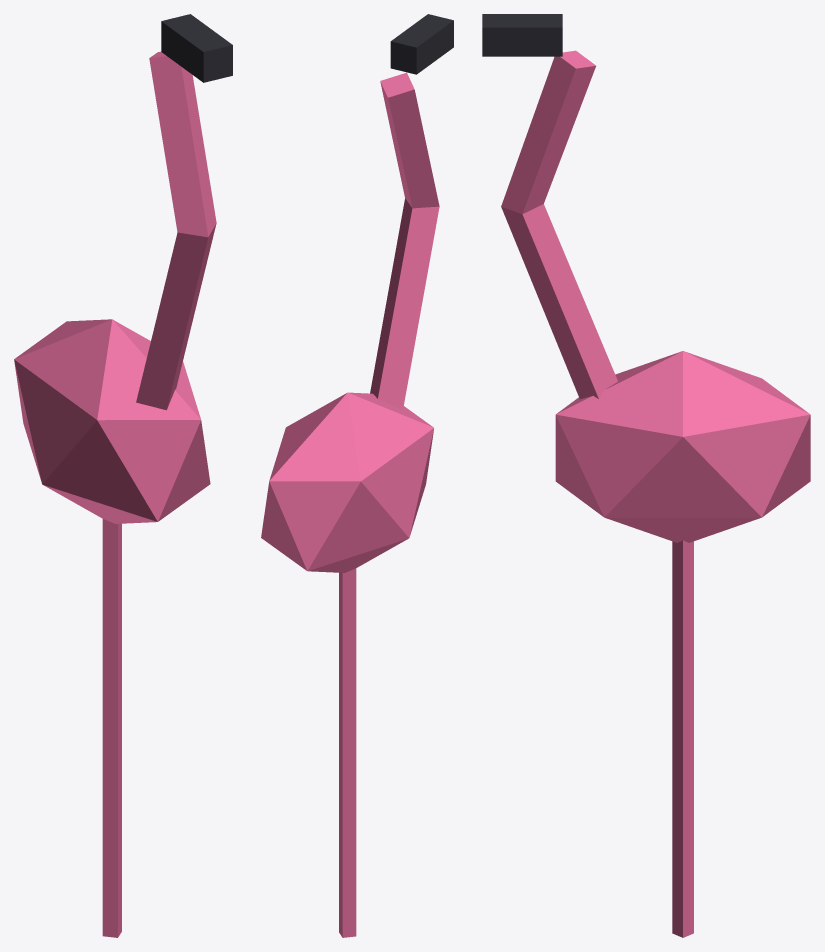
Rendered from flamingo.glb.
3 renders of one model, left to right at view 1: azimuth 30°, elevation 25°; view 2: azimuth 150°, elevation 25°; view 3: azimuth 270°, elevation 25°, orthographic. The views are drawn at different scales.
Visible parts, largest first — view 1: flamingo; view 2: flamingo; view 3: flamingo.
Boxes of the visible parts, x1=… form: flamingo: x1=14, y1=14, x2=232, y2=937; flamingo: x1=261, y1=14, x2=453, y2=937; flamingo: x1=482, y1=14, x2=810, y2=937.
Bounding box in the file's own units: 0.2862 × 1.88 × 0.6132.
